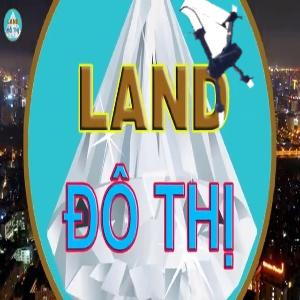drone: (159, 5, 280, 126)
